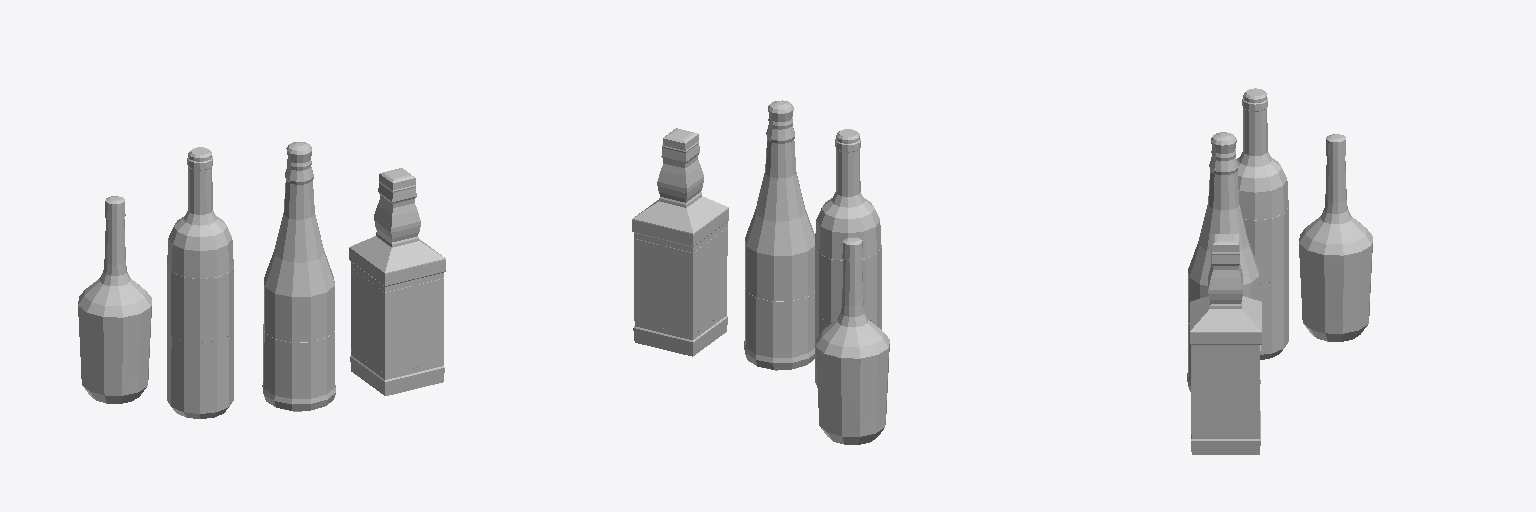
The model's file is botellas1.obj.
The picture shows the model from 3 angles: view 1: azimuth 30°, elevation 25°; view 2: azimuth 150°, elevation 25°; view 3: azimuth 270°, elevation 25°; orthographic projection.
Parts seen in each view (by area): view 1: polySurface50; view 2: polySurface50; view 3: polySurface50.
Part boxes in pixels (bbox=[...]): polySurface50: bbox=[78, 142, 445, 418]; polySurface50: bbox=[632, 100, 889, 444]; polySurface50: bbox=[1187, 88, 1372, 454].
Bounding box in the file's own units: 2.74 × 2.36 × 1.53.